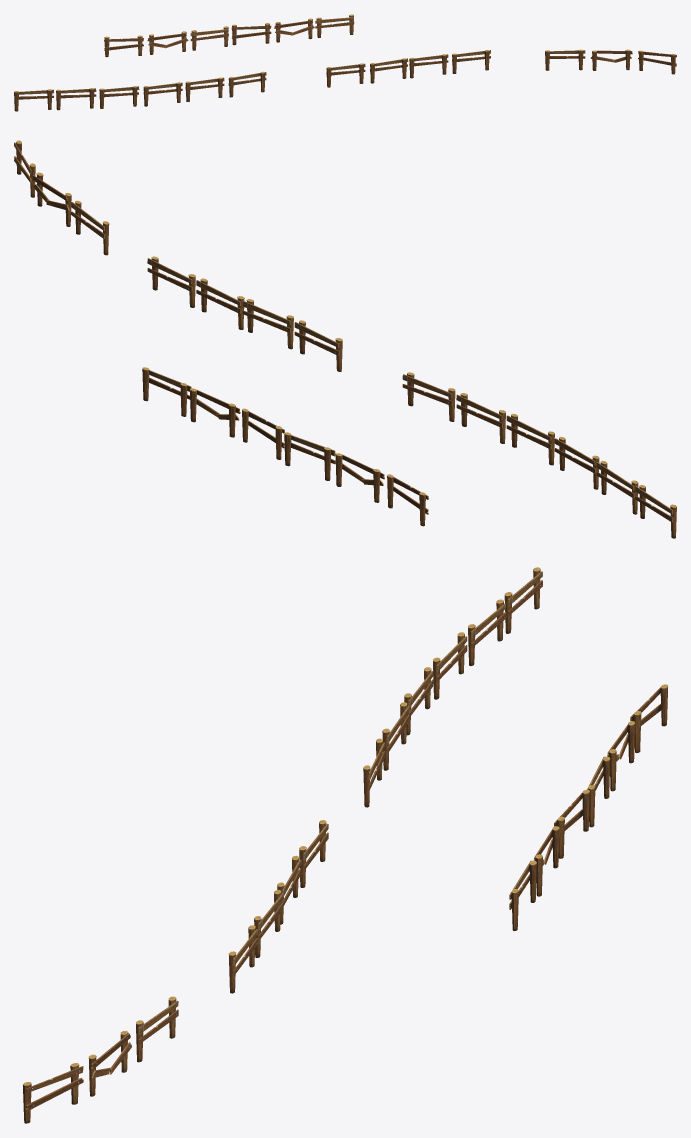
File: Area_12_32.fbx
The picture shows the model from 3 angles, top to bottom: view 1: azimuth 30°, elevation 25°; view 2: azimuth 150°, elevation 25°; view 3: azimuth 270°, elevation 25°; orthographic projection. The views are drawn at different scales.
Parts seen in each view (by area): view 1: Area_12_32; view 2: Area_12_32; view 3: Area_12_32.
Boxes of the visible parts, left/top/right/bottom form: Area_12_32: left=14, top=14, right=676, bottom=111; Area_12_32: left=14, top=140, right=676, bottom=538; Area_12_32: left=23, top=567, right=668, bottom=1123.
Bounding box in the file's own units: 4024 × 147 × 2102.
